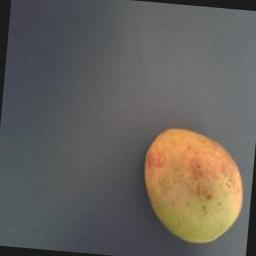Mango Unripe: (122, 112, 256, 250)
